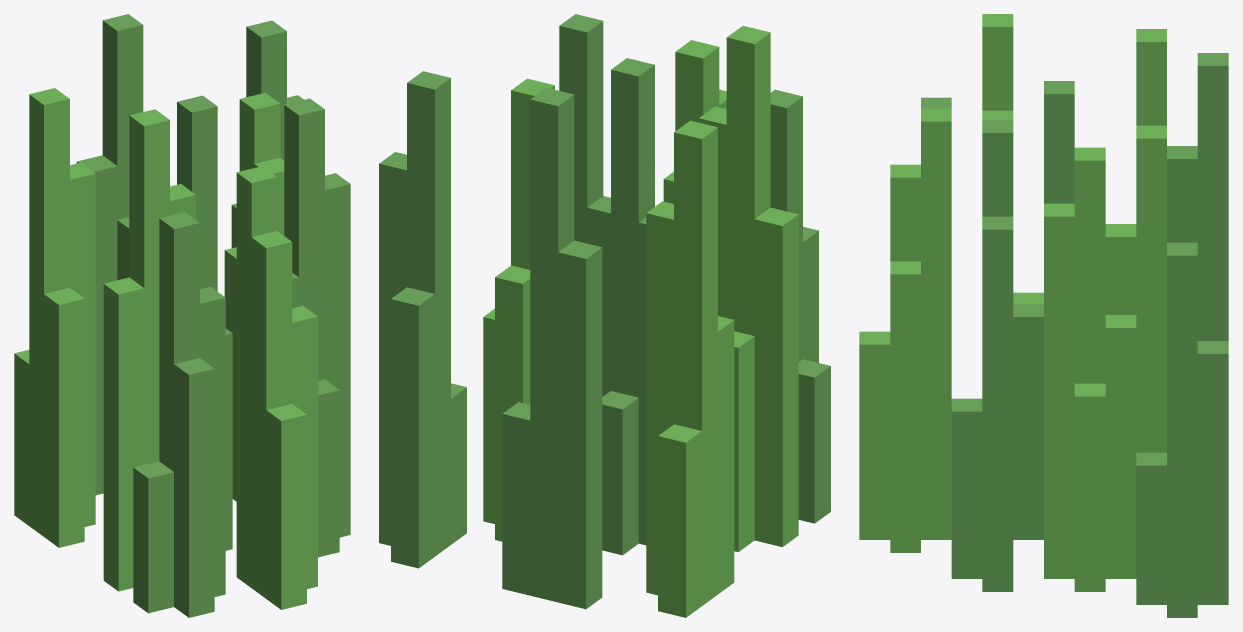
File: Grass_b_v1.fbx
3 views of the same model, side by side, from view 1: azimuth 30°, elevation 25°; view 2: azimuth 150°, elevation 25°; view 3: azimuth 270°, elevation 25° (orthographic). The views are drawn at different scales.
Parts seen in each view (by area): view 1: minecraft:Mesh; view 2: minecraft:Mesh; view 3: minecraft:Mesh.
Part boxes in pixels (x1,y1,x2,y2): minecraft:Mesh: (14,14,350,617); minecraft:Mesh: (379,14,830,617); minecraft:Mesh: (859,14,1228,617).
Bounding box in the file's own units: 11 × 17 × 12.
